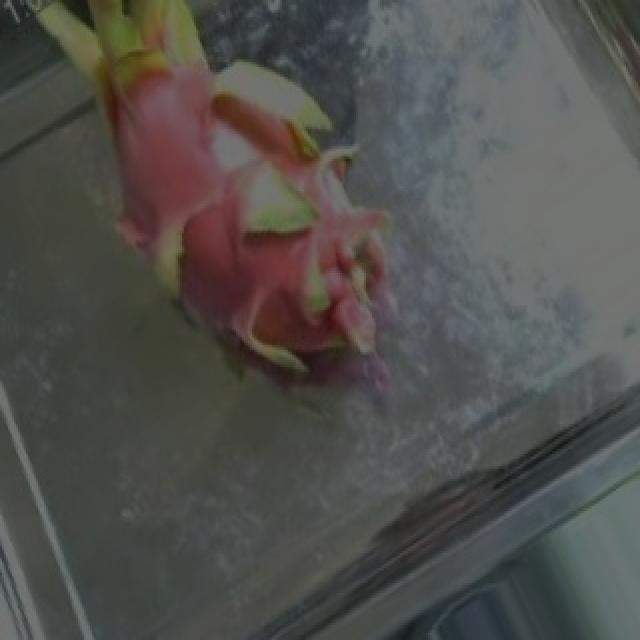fruit: (4, 0, 430, 434)
